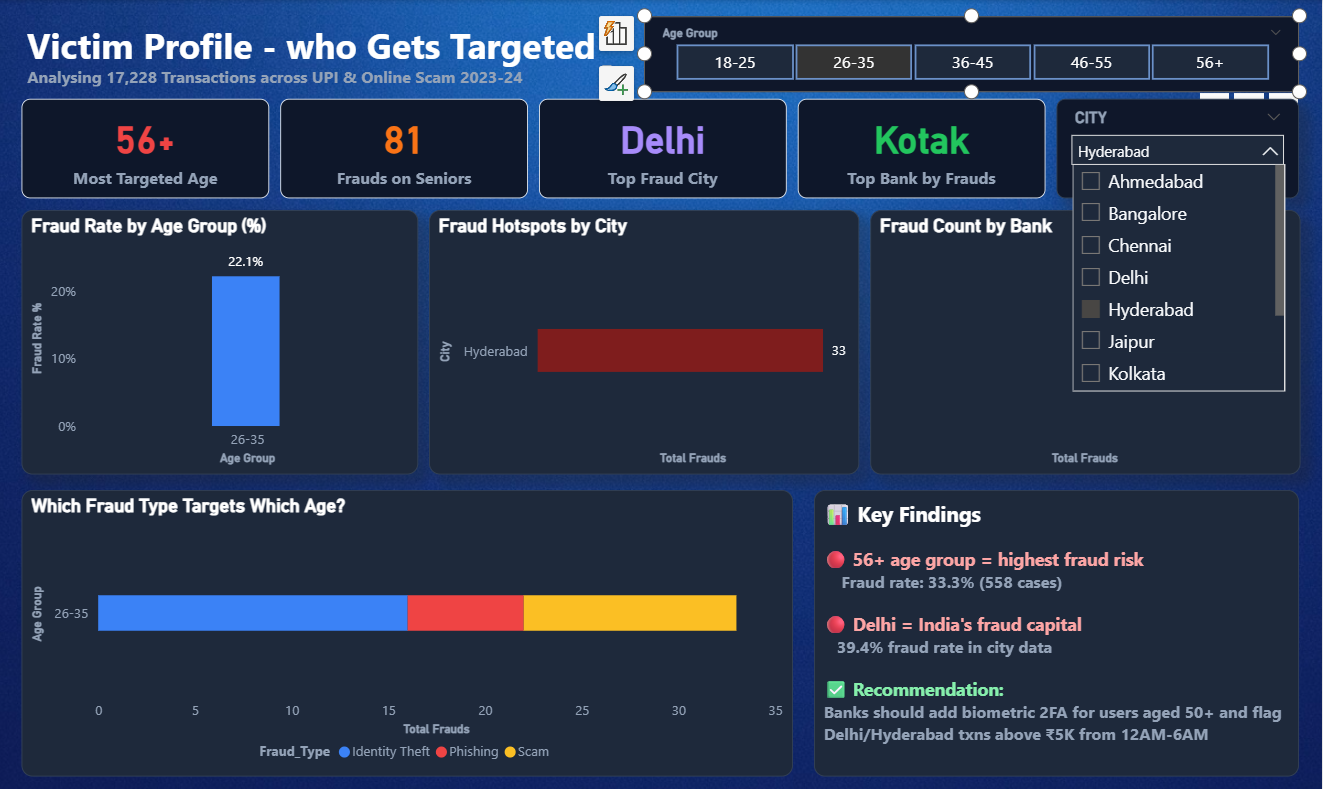

What the dashboard file says about the page in this screenshot:
{"tool":"powerbi","page":{"name":"Victim Profile ","canvas":[1200,720],"ordinal":1},"visuals":[{"type":"barChart","title":"Which Fraud Type Targets Which Age?","fields":{"Category":["Master_Fraud_Table.Age_Group"],"Series":["Master_Fraud_Table.Fraud_Type"],"Y":["Master_Fraud_Table.Total_Frauds"]},"box":[20,445,700,260],"z":0},{"type":"textbox","box":[20,15,677.2,59.6],"z":1000},{"type":"textbox","box":[20,55,540.2,29.4],"z":2000},{"type":"card","fields":{"Values":["_Measures.Most Targeted Age"]},"box":[20,90,225,90.4],"z":3000},{"type":"card","fields":{"Values":["_Measures.Frauds on Seniors"]},"box":[255,90,225,90.4],"z":4000},{"type":"card","fields":{"Values":["_Measures.Top Fraud City"]},"box":[490,90,225,90],"z":5000},{"type":"card","title":"hello","fields":{"Values":["_Measures.Top Bank by Frauds"]},"box":[725,90,225,90.4],"z":6000},{"type":"textbox","box":[740,445,440,260],"z":8000},{"type":"clusteredColumnChart","title":"Fraud Rate by Age Group (%)","fields":{"Category":["Master_Fraud_Table.Age_Group"],"Y":["Master_Fraud_Table.Fraud Rate %"]},"box":[20,190,360,240],"z":9000},{"type":"clusteredBarChart","title":"Fraud Hotspots by City","fields":{"Category":["Master_Fraud_Table.City"],"Y":["Master_Fraud_Table.Total_Frauds"]},"box":[390,190,390,240],"z":10000},{"type":"clusteredBarChart","title":"Fraud Count by Bank","fields":{"Category":["Master_Fraud_Table.Bank_Name"],"Y":["Master_Fraud_Table.Total_Frauds"]},"box":[790,190,390,240],"z":11000},{"type":"slicer","fields":{"Values":["Master_Fraud_Table.Age_Group"]},"box":[585.3,14.7,594.3,69.2],"z":12000},{"type":"slicer","fields":{"Values":["Master_Fraud_Table.City"]},"box":[960,90,220,90],"z":13000}]}

Visuals, with their boxes in screenshot pixels (x1, y1, x2, y2), scaled from the page's 1200x720 canvas onto the 1323x789 screenshot:
"Which Fraud Type Targets Which Age?" barChart: l=22, t=488, r=794, b=773
textbox: l=22, t=16, r=769, b=82
textbox: l=22, t=60, r=618, b=92
card - _Measures.Most Targeted Age: l=22, t=99, r=270, b=198
card - _Measures.Frauds on Seniors: l=281, t=99, r=529, b=198
card - _Measures.Top Fraud City: l=540, t=99, r=788, b=197
"hello" card: l=799, t=99, r=1047, b=198
textbox: l=816, t=488, r=1301, b=773
"Fraud Rate by Age Group (%)" clusteredColumnChart: l=22, t=208, r=419, b=471
"Fraud Hotspots by City" clusteredBarChart: l=430, t=208, r=860, b=471
"Fraud Count by Bank" clusteredBarChart: l=871, t=208, r=1301, b=471
slicer - Master_Fraud_Table.Age_Group: l=645, t=16, r=1301, b=92
slicer - Master_Fraud_Table.City: l=1058, t=99, r=1301, b=197
